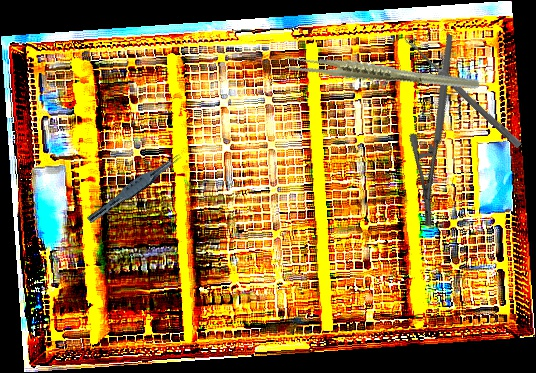Needle Holder: (367, 32, 512, 230)
Surgical Spoon: (402, 35, 523, 149)
Tissue Forceps: (282, 22, 482, 126), (86, 148, 184, 229)
